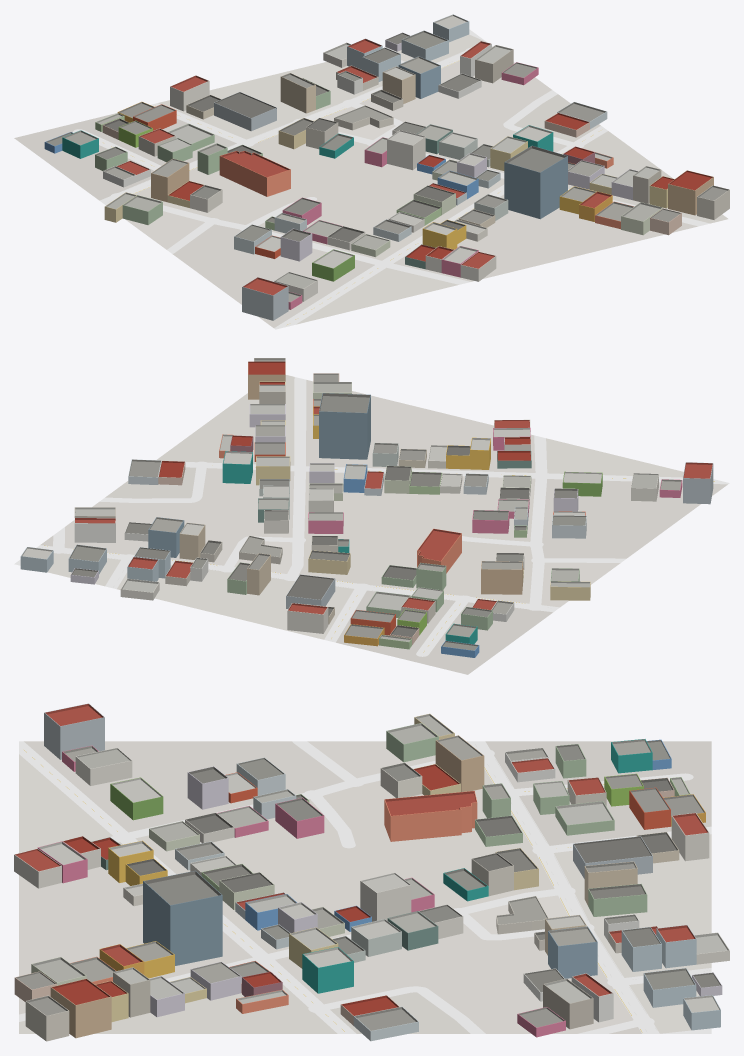
3 renders of one model, top to bottom at view 1: azimuth 30°, elevation 25°; view 2: azimuth 150°, elevation 25°; view 3: azimuth 270°, elevation 25°, orthographic. The views are drawn at different scales.
Parts seen in each view (by area): view 1: ground, walls, roofs, asphalt; view 2: ground, roofs, walls, asphalt; view 3: ground, walls, roofs, asphalt.
Boxes of the visible parts, x1,y1,x2,y2 form: ground: (14, 34, 727, 327); walls: (44, 21, 729, 320); roofs: (45, 14, 729, 302); asphalt: (73, 29, 709, 329); ground: (40, 375, 727, 674); roofs: (21, 358, 713, 650); walls: (20, 374, 713, 657); asphalt: (14, 377, 729, 656); ground: (19, 741, 711, 1033); walls: (14, 713, 729, 1041); roofs: (14, 703, 729, 1031); asphalt: (19, 741, 711, 1033).
Size of what is drawn, in the model's own units: 265 by 24.5 by 258.
